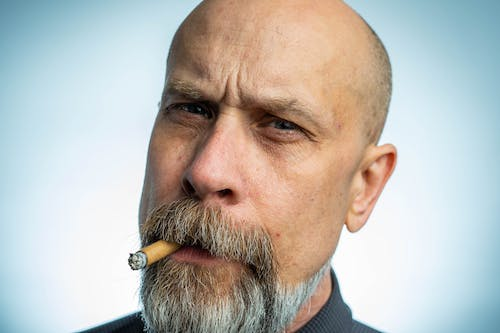cigarette: (124, 237, 186, 271)
